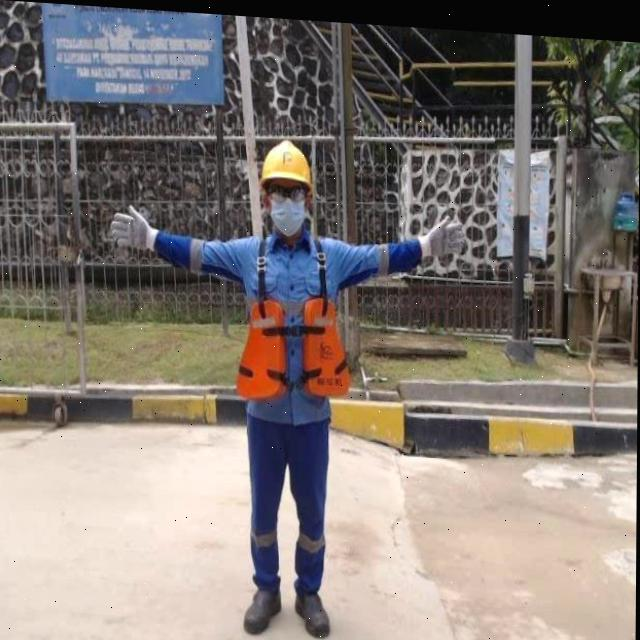Gloves: (416, 208, 466, 261), (109, 201, 159, 250)
Helmet: (258, 133, 313, 188)
Safety-Boot: (243, 582, 282, 631), (295, 585, 331, 634)
Safety-Vest: (236, 223, 351, 401)
